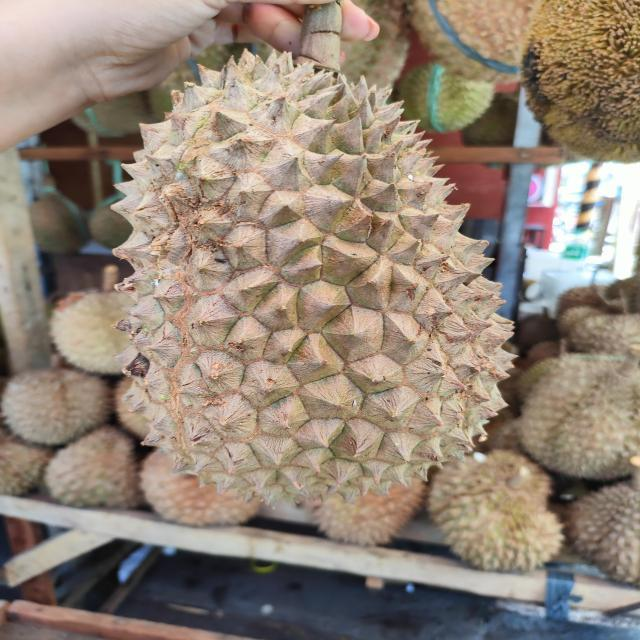mature: (105, 45, 524, 517)
